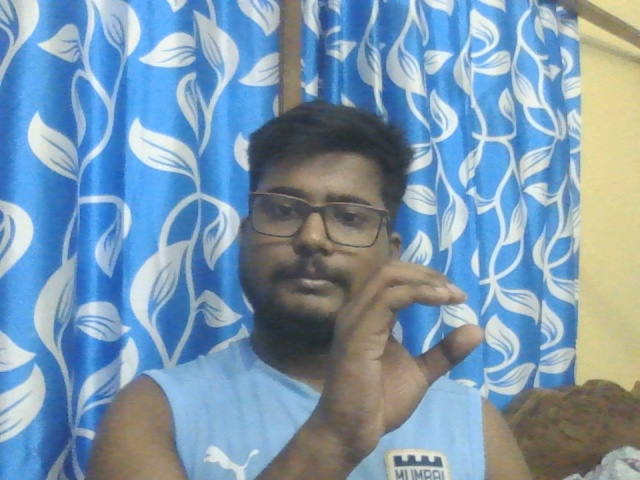C: (325, 261, 485, 437)
